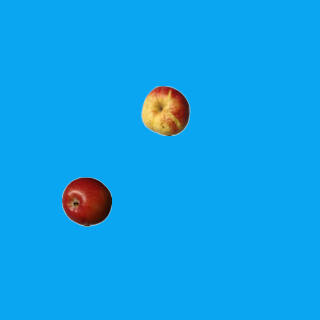Apple Braeburn: (61, 176, 111, 226)
Apple Red Yellow 1: (140, 85, 190, 135)
